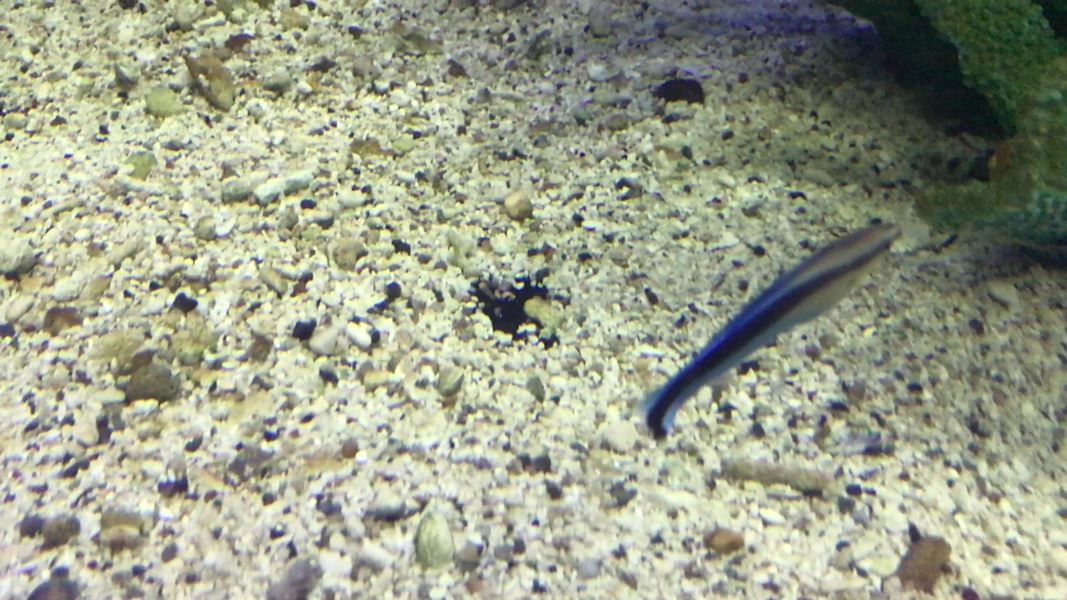Bluesteak cleaner wrasse: (620, 216, 926, 445)
